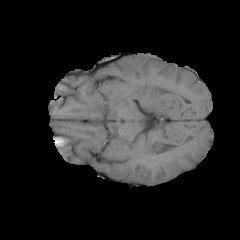glioma: (130, 80, 173, 111)
